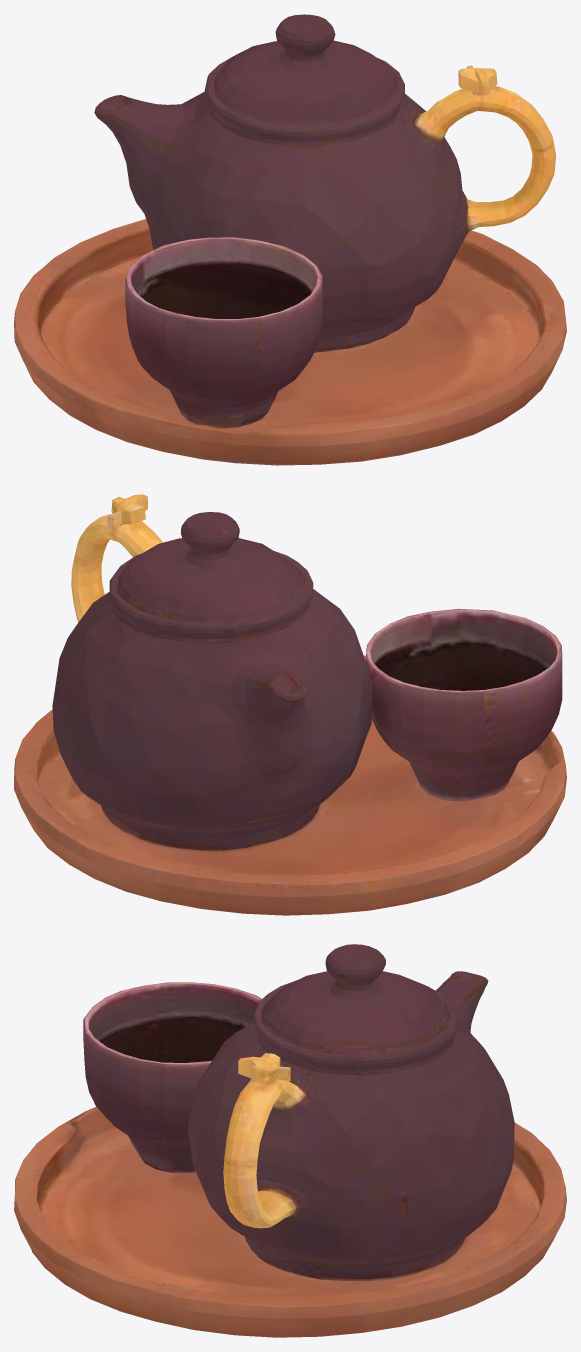
File: prop_teapot.glb
3 renders of one model, top to bottom at view 1: azimuth 30°, elevation 25°; view 2: azimuth 150°, elevation 25°; view 3: azimuth 270°, elevation 25°, orthographic.
Visible parts, largest first — view 1: mesh_node; view 2: mesh_node; view 3: mesh_node.
Boxes of the visible parts, x1,y1,x2,y2 form: mesh_node: (14,14,566,465); mesh_node: (14,494,566,915); mesh_node: (14,944,566,1337).
Bounding box in the file's own units: 1.91 × 1.12 × 1.9.
1 material, 1 textured.
